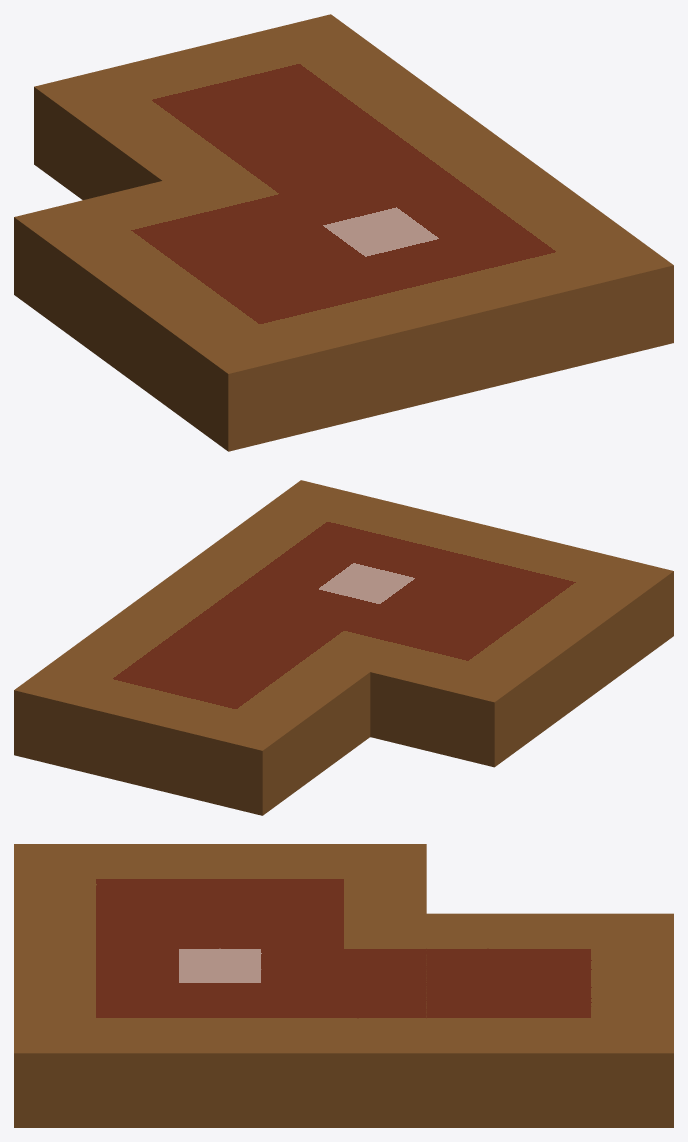
The model's file is Carne.fbx.
3 renders of one model, top to bottom at view 1: azimuth 30°, elevation 25°; view 2: azimuth 150°, elevation 25°; view 3: azimuth 270°, elevation 25°, orthographic. The views are drawn at different scales.
Visible parts, largest first — view 1: cube, cube_1; view 2: cube, cube_1; view 3: cube, cube_1.
Boxes of the visible parts, <box> form: cube: <box>14,108,673,451</box>; cube_1: <box>34,14,458,199</box>; cube: <box>122,480,673,767</box>; cube_1: <box>14,611,370,815</box>; cube: <box>14,844,426,1127</box>; cube_1: <box>426,913,673,1127</box>.
Size of the model in its own units: 100 by 16.67 by 133.
Materials: 1 (1 with a texture image).
